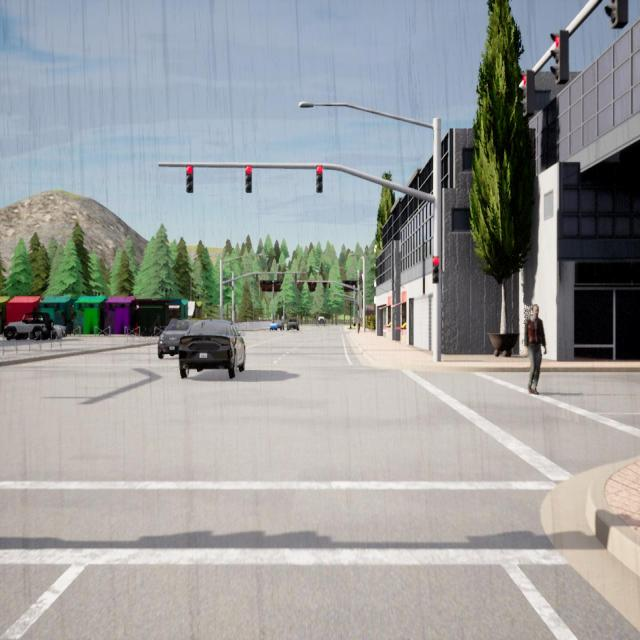Pedestrian: (526, 304, 548, 394), (357, 316, 361, 334)
Vehicle: (179, 319, 245, 378), (4, 311, 54, 341), (158, 318, 192, 359), (54, 325, 67, 339), (286, 318, 299, 331), (269, 322, 278, 332), (276, 319, 284, 330), (318, 317, 325, 327)
traffic_light: (550, 30, 568, 85), (518, 70, 534, 117), (604, 0, 628, 29), (186, 166, 194, 193), (316, 165, 323, 192), (245, 166, 252, 193), (433, 255, 439, 283), (295, 272, 297, 282), (297, 280, 299, 289), (329, 280, 331, 288), (256, 274, 258, 282), (278, 274, 280, 282), (312, 281, 314, 288), (357, 304, 359, 310), (359, 278, 360, 285), (234, 304, 235, 310), (361, 277, 362, 283)
